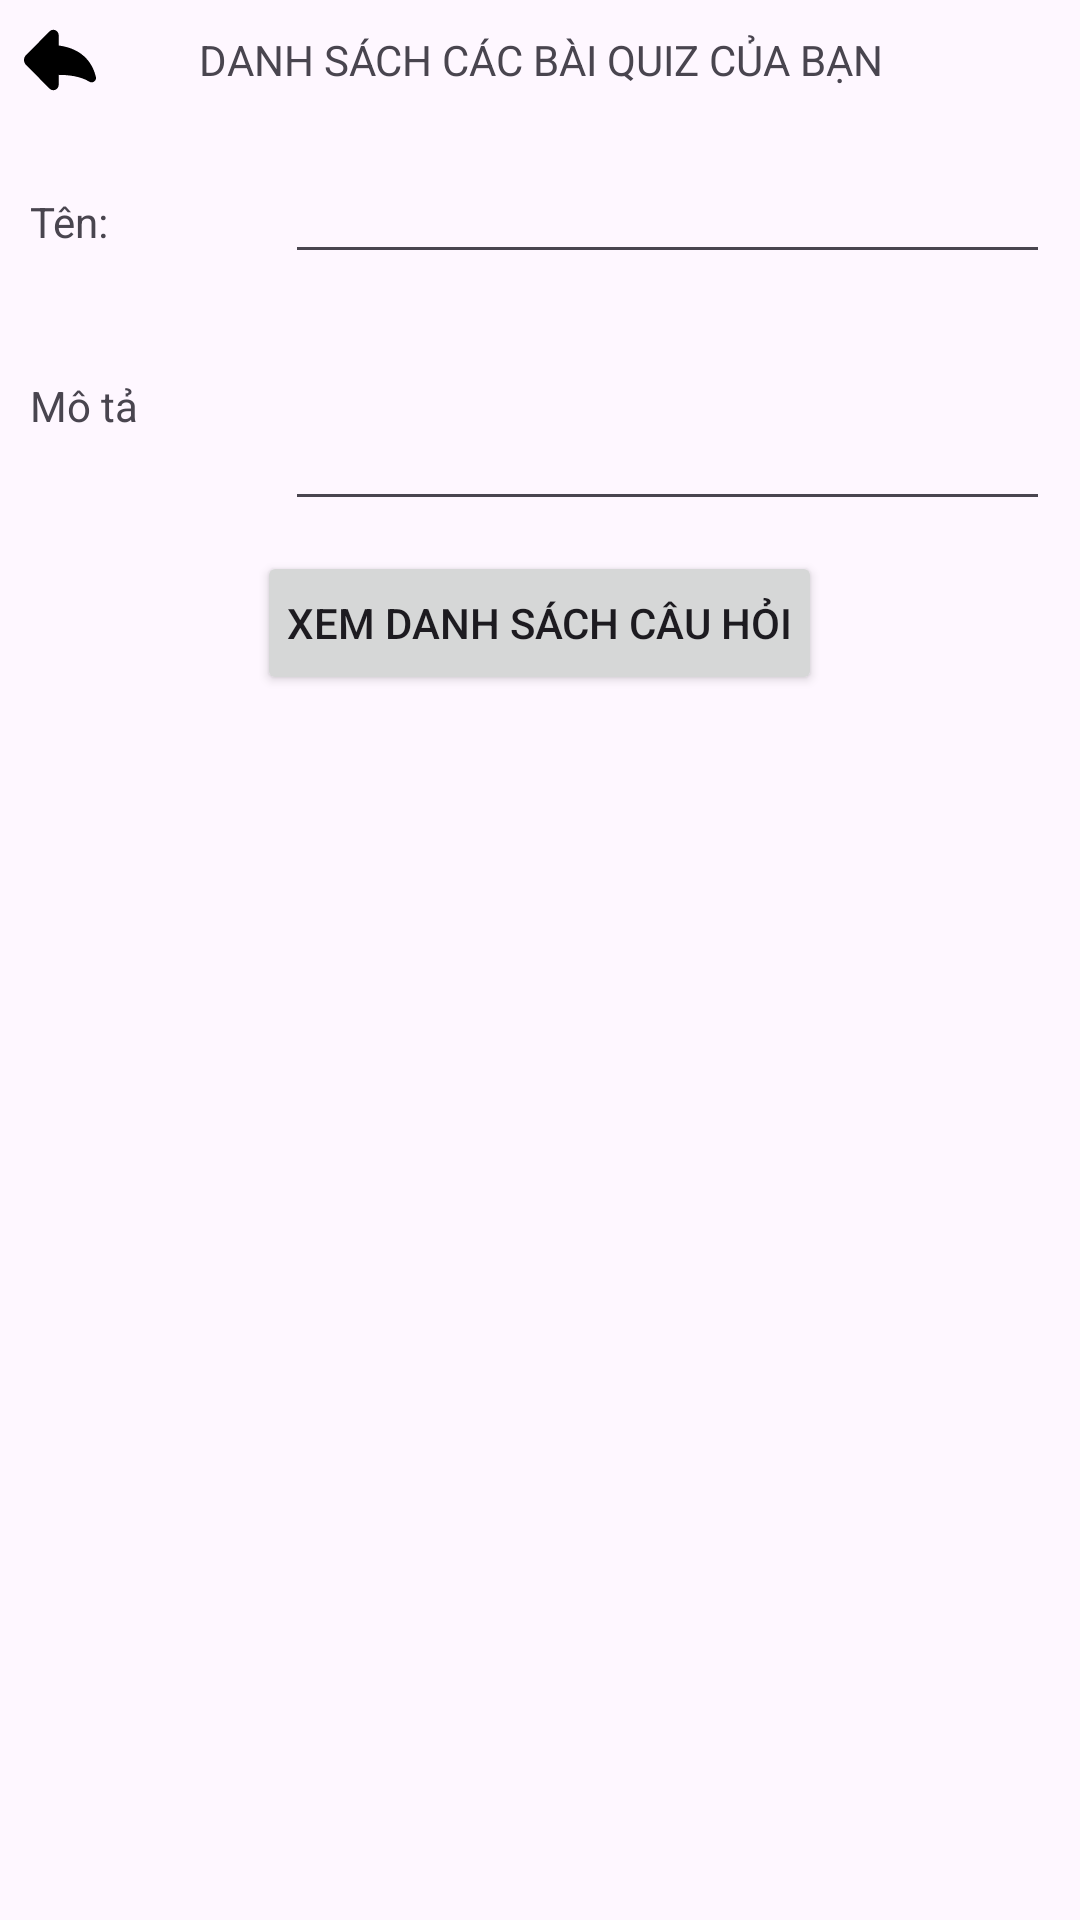

Screen size 1080px×1920px. Icon name, then its center in pixels as (x=x, y=y):
back arrow: (x=60, y=60)
